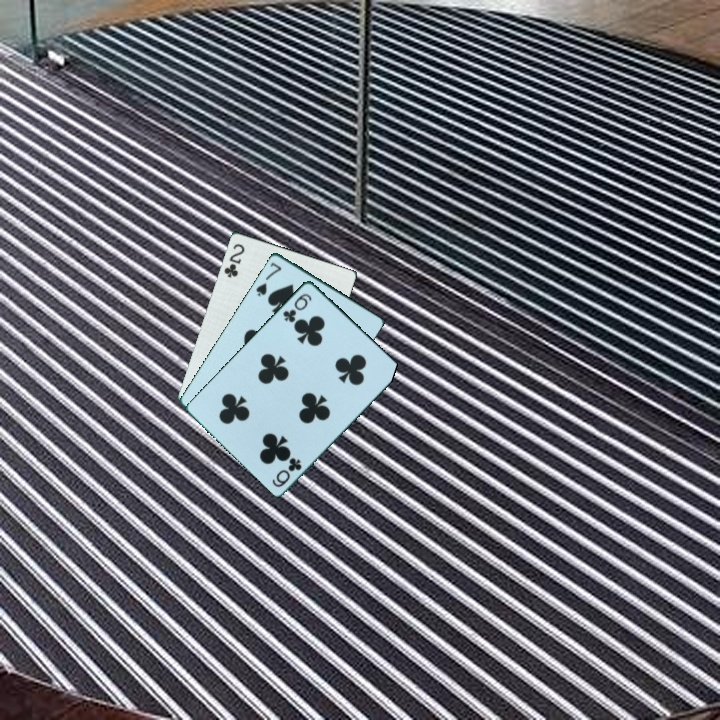2c: (220, 240, 247, 280)
6c: (268, 454, 305, 490), (279, 289, 315, 325)
7s: (252, 258, 285, 299)
